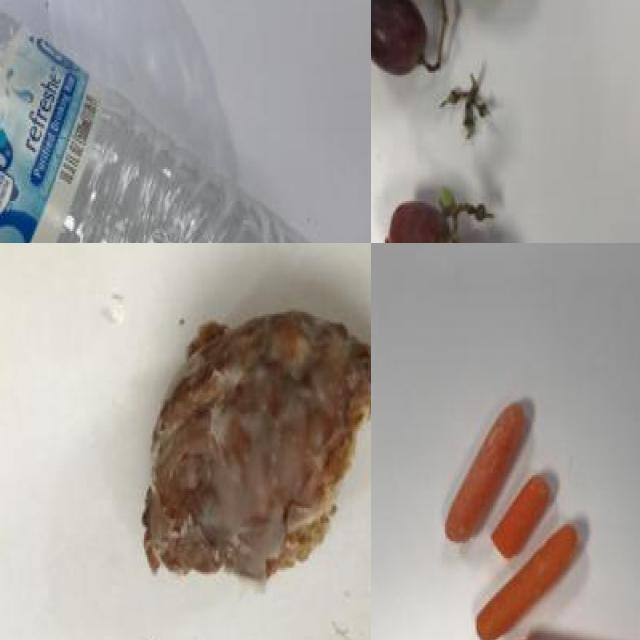compost: (135, 291, 371, 607), (431, 387, 640, 640), (371, 0, 544, 243)
plastic: (0, 0, 340, 243)
